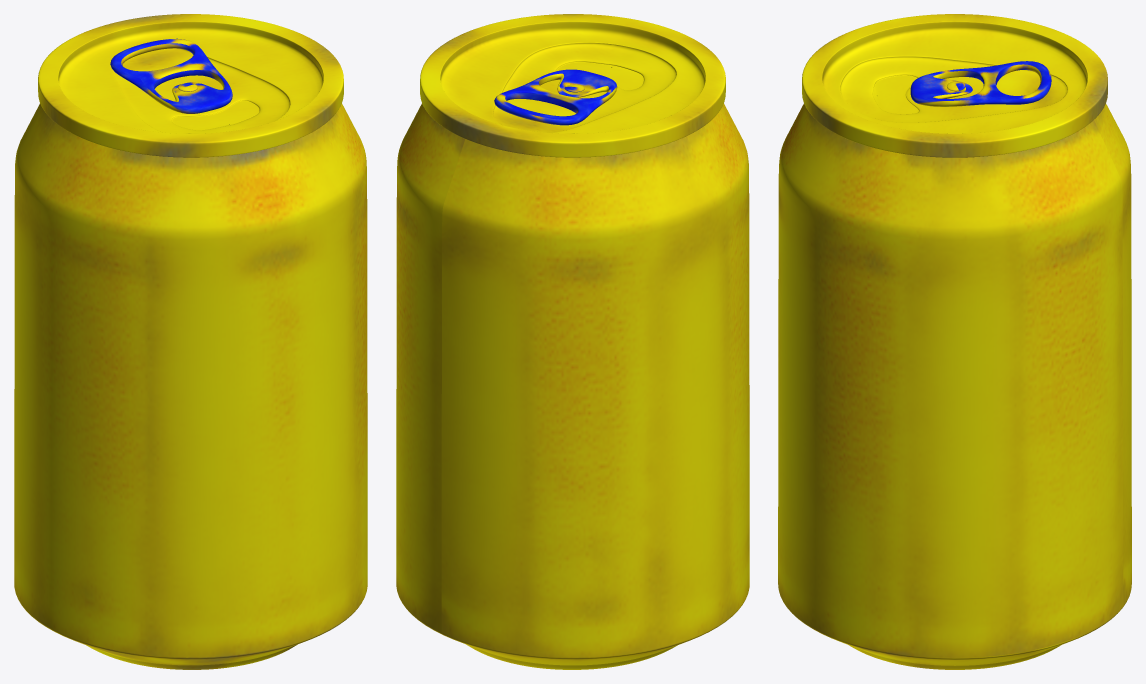
3 renders of one model, left to right at view 1: azimuth 30°, elevation 25°; view 2: azimuth 150°, elevation 25°; view 3: azimuth 270°, elevation 25°, orthographic.
Visible parts, largest first — view 1: pMesh1; view 2: pMesh1; view 3: pMesh1.
Part boxes in pixels (left/top/right/bottom): pMesh1: left=14, top=14, right=367, bottom=669; pMesh1: left=396, top=14, right=749, bottom=669; pMesh1: left=778, top=14, right=1131, bottom=669.
Bounding box in the file's own units: 1.18 × 2 × 1.18.
Materials: 1 (1 with a texture image).
